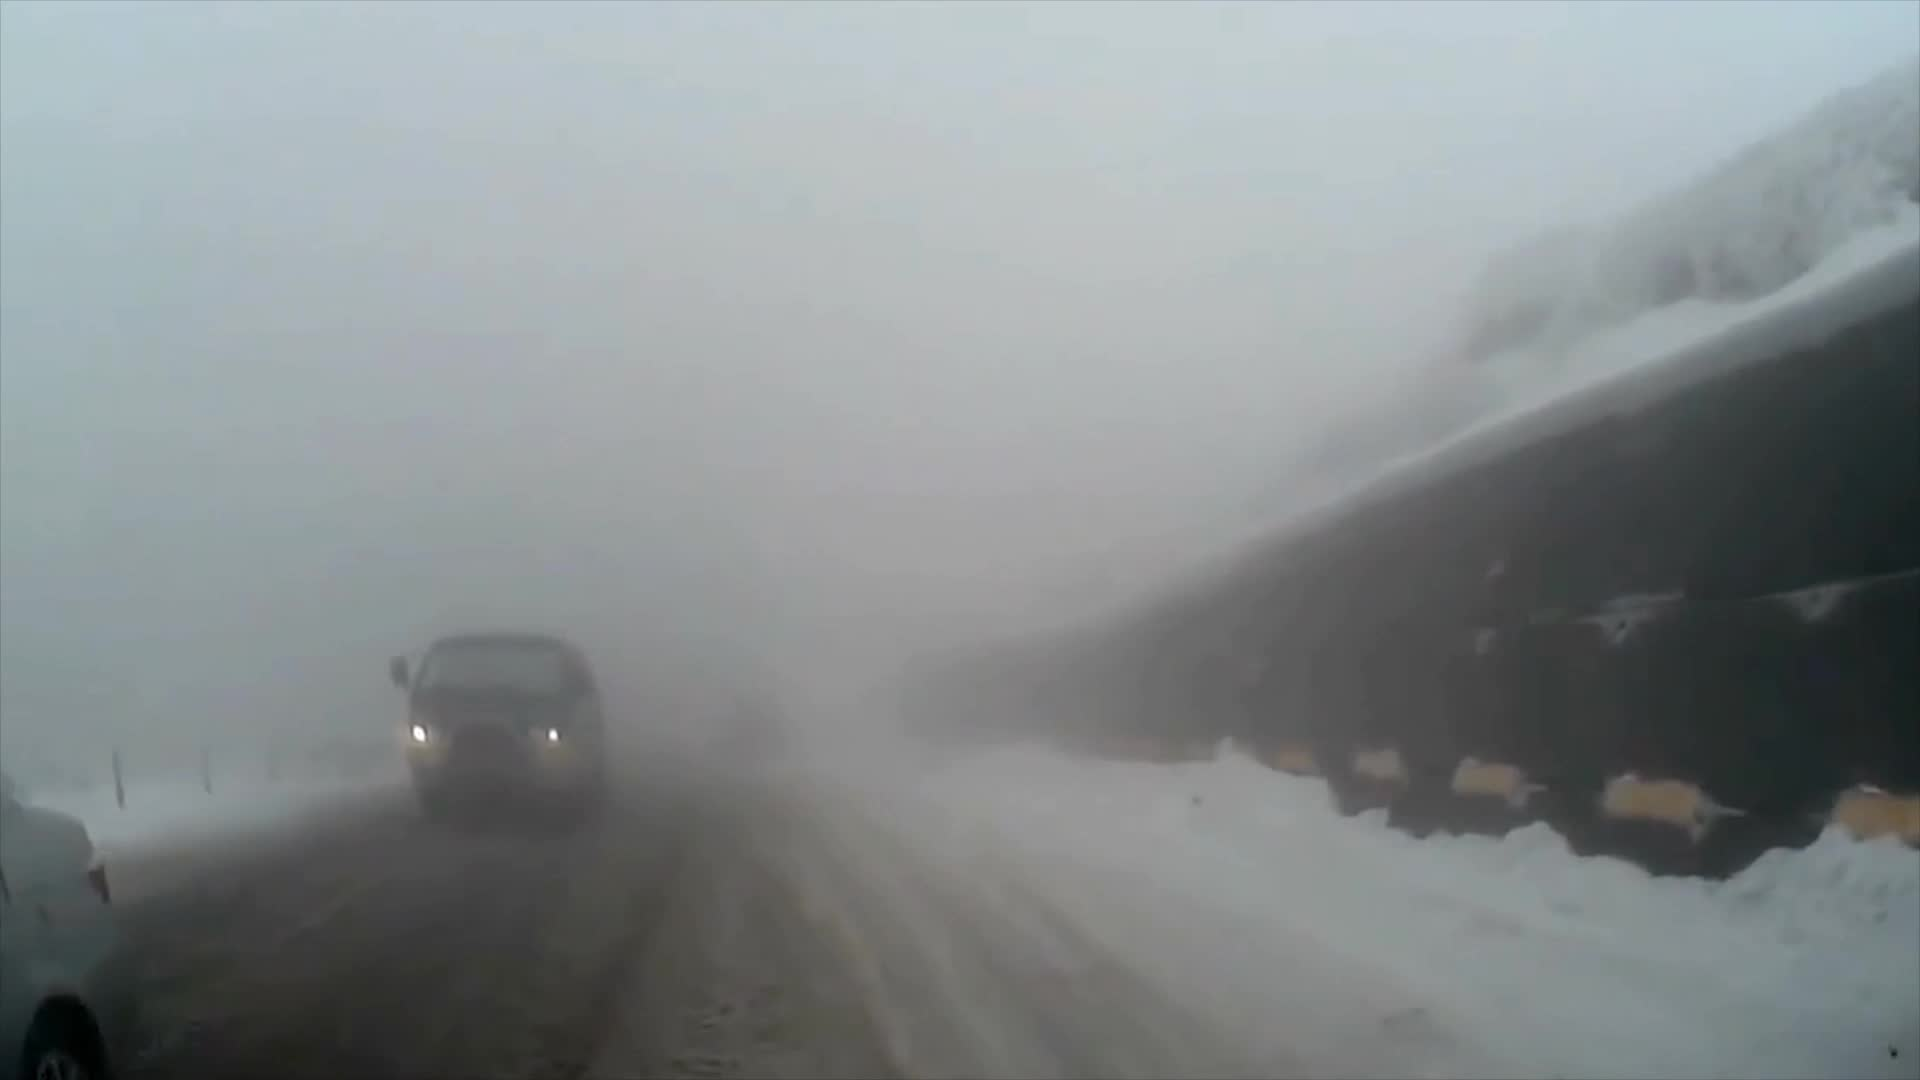vehicle: (384, 632, 611, 831), (0, 771, 131, 1080)
